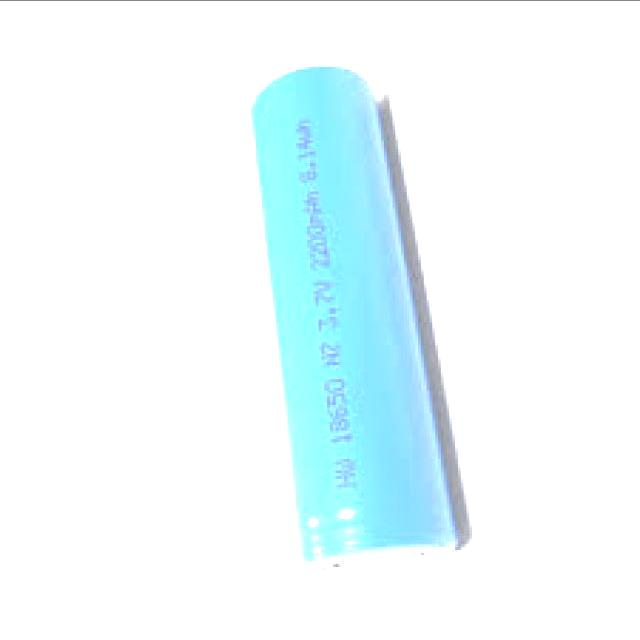AA: (242, 64, 476, 574)
